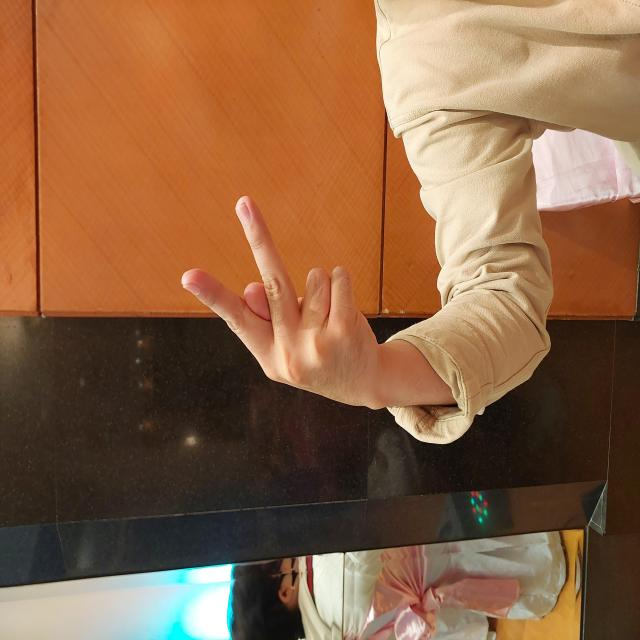K: (230, 180, 447, 378)
